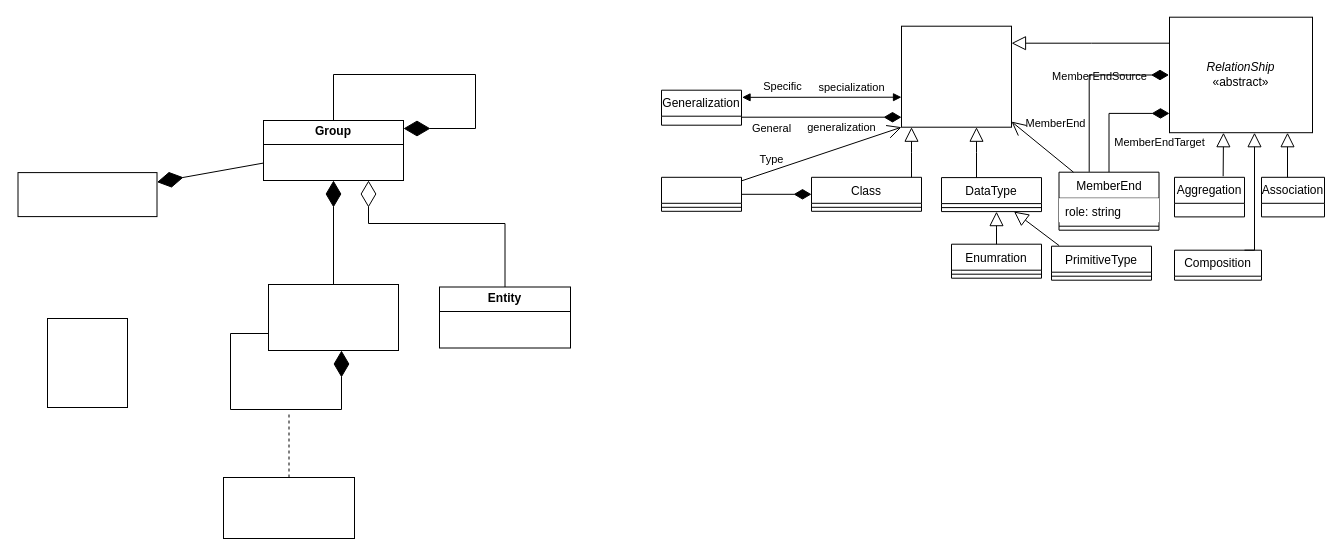
This 1342x557 diagram has some shape labels left out. The shapes that lost their labels are listed below. From the top down, each one's centre as x and y in pixels, then its label:
(956,76): Classifer «abstract»
(87,194): MoiseModel
(701,193): Property
(333,317): Role
(87,363): LinkType Com Acq Aut Compat
(288,507): Link + type: linkType
